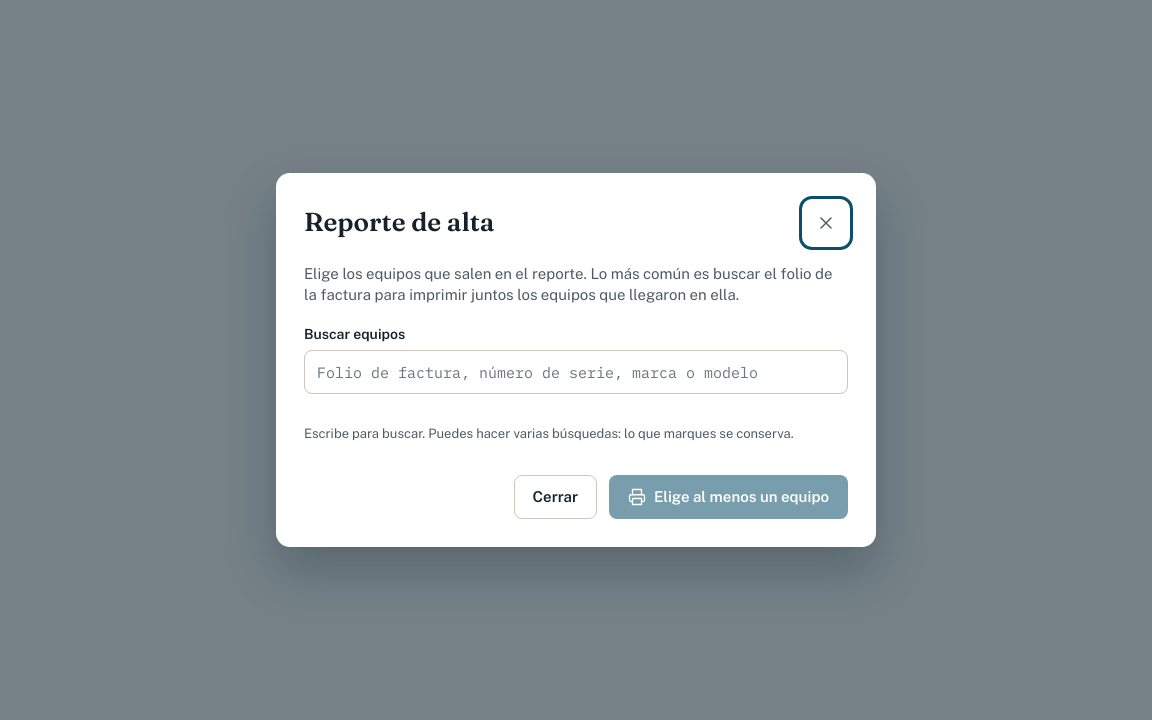
Test: DialogoReporteAlta (varios equipos) › avisa cuando nada coincide
This screenshot has width=1152, height=720.
Type "NO-EXISTE" into the search field with id "buscar-reporte-alta" at (576, 372), box [304,350,848,394]
Wait 300 ms
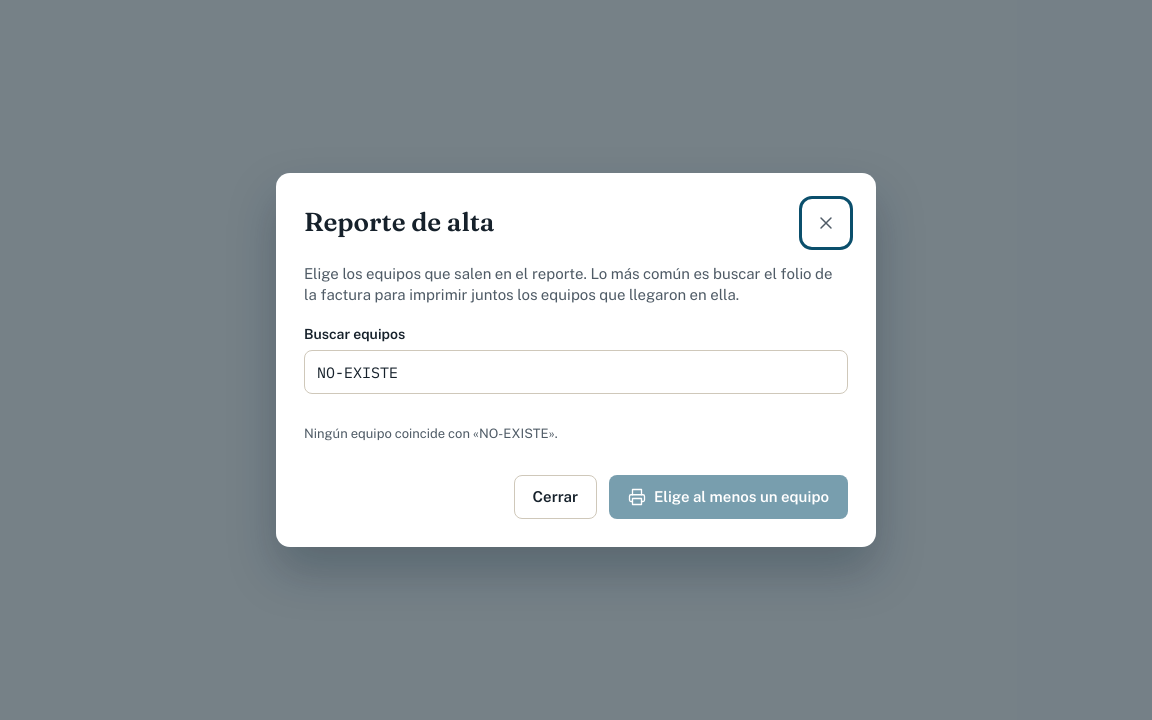
Result: the text "Ningún equipo coincide con «NO-EXISTE»." is shown at [304,426,558,442]
